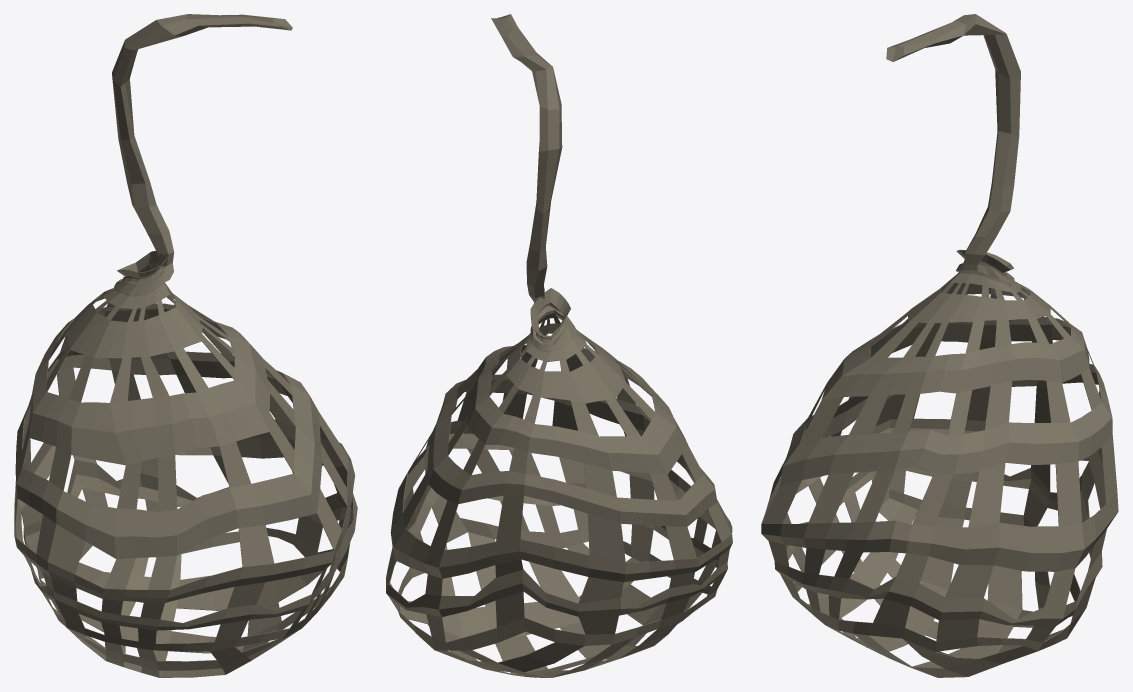
The model's file is net.fbx.
3 renders of one model, left to right at view 1: azimuth 30°, elevation 25°; view 2: azimuth 150°, elevation 25°; view 3: azimuth 270°, elevation 25°, orthographic. The views are drawn at different scales.
Visible parts, largest first — view 1: net; view 2: net; view 3: net.
Part boxes in pixels (bbox=[...]): net: bbox=[14, 14, 357, 677]; net: bbox=[386, 14, 732, 677]; net: bbox=[761, 14, 1118, 677].
Size of the model in its own units: 675 by 1324 by 669.
